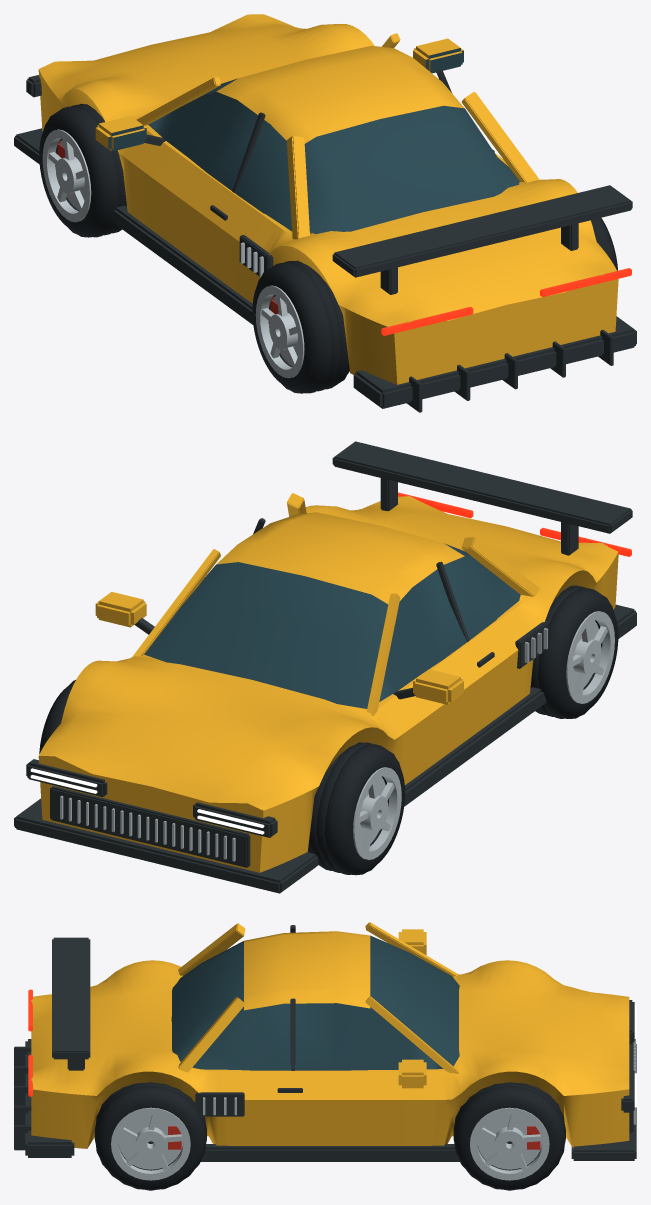
Rendered from coupe.glb.
3 views of the same model, one above another, from view 1: azimuth 30°, elevation 25°; view 2: azimuth 150°, elevation 25°; view 3: azimuth 270°, elevation 25° (orthographic). The views are drawn at different scales.
Parts seen in each view (by area): view 1: QR_Coupe_LOD0.001; view 2: QR_Coupe_LOD0.001; view 3: QR_Coupe_LOD0.001.
Boxes of the visible parts, box(x1,y1,x2,y2) form: QR_Coupe_LOD0.001: box(14, 14, 636, 412); QR_Coupe_LOD0.001: box(14, 441, 636, 893); QR_Coupe_LOD0.001: box(14, 922, 636, 1190).
Size of what is drawn, in the model's own units: 2.6 by 1.43 by 4.69.
